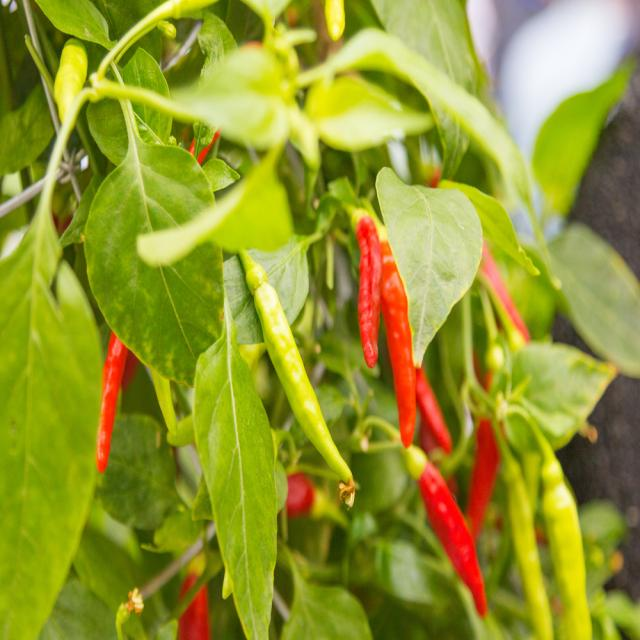Ripe: (419, 461, 488, 616), (381, 240, 416, 448), (96, 332, 128, 472), (355, 214, 382, 367), (416, 368, 452, 454)
Unripe: (239, 249, 355, 506), (492, 420, 554, 639), (541, 459, 592, 638)
